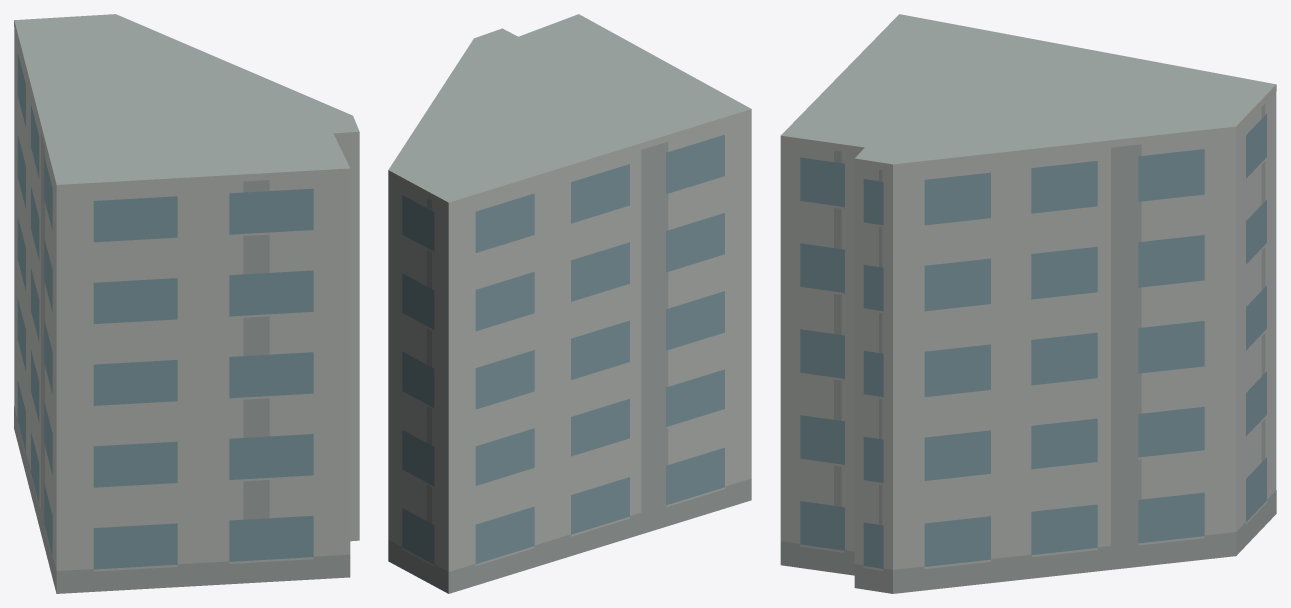
Rendered from survey-upis-32566640.glb.
3 renders of one model, left to right at view 1: azimuth 30°, elevation 25°; view 2: azimuth 150°, elevation 25°; view 3: azimuth 270°, elevation 25°, orthographic. The views are drawn at different scales.
Visible parts, largest first — view 1: survey-upis-32566640.tmp; view 2: survey-upis-32566640.tmp; view 3: survey-upis-32566640.tmp.
Boxes of the visible parts, bbox=[...] form: survey-upis-32566640.tmp: bbox=[14, 14, 359, 593]; survey-upis-32566640.tmp: bbox=[388, 14, 751, 593]; survey-upis-32566640.tmp: bbox=[780, 14, 1276, 593].
Size of the model in its own units: 10.67 by 14.2 by 14.86.
